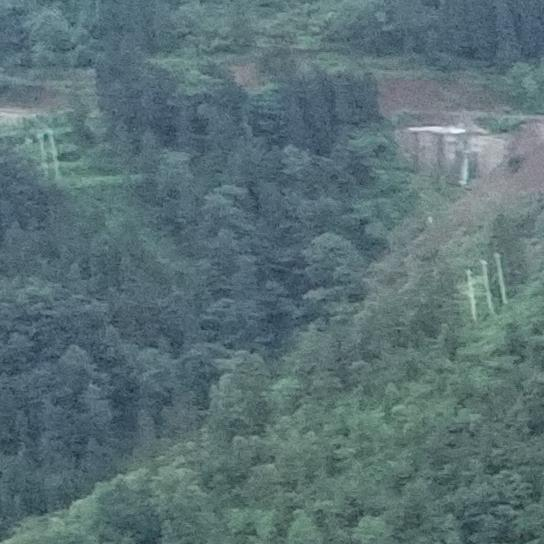pole: (463, 256, 508, 319), (33, 132, 62, 183)
